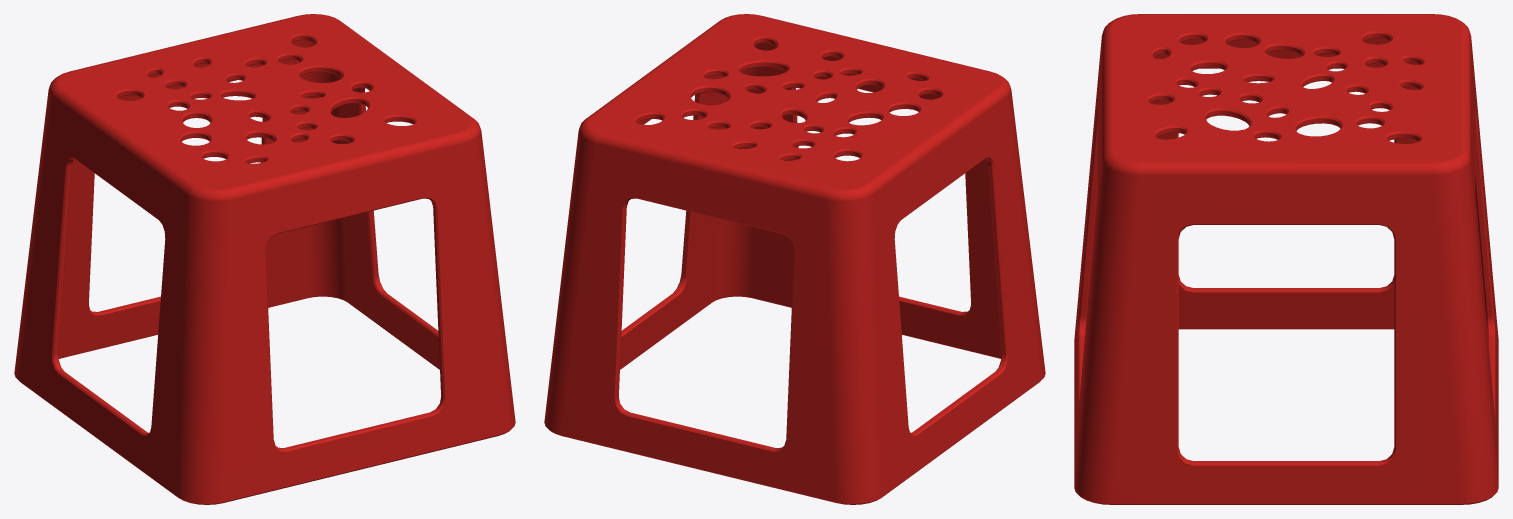
The model's file is ghe_nhua_do.glb.
The picture shows the model from 3 angles, left to right: view 1: azimuth 30°, elevation 25°; view 2: azimuth 150°, elevation 25°; view 3: azimuth 270°, elevation 25°; orthographic projection. The views are drawn at different scales.
Visible parts, largest first — view 1: ghe_nhua_do; view 2: ghe_nhua_do; view 3: ghe_nhua_do.
Part boxes in pixels (left/top/right/bottom): ghe_nhua_do: left=14, top=14, right=515, bottom=504; ghe_nhua_do: left=544, top=14, right=1045, bottom=504; ghe_nhua_do: left=1074, top=14, right=1498, bottom=504.
Size of the model in its own units: 0.3348 by 0.2856 by 0.3348.
